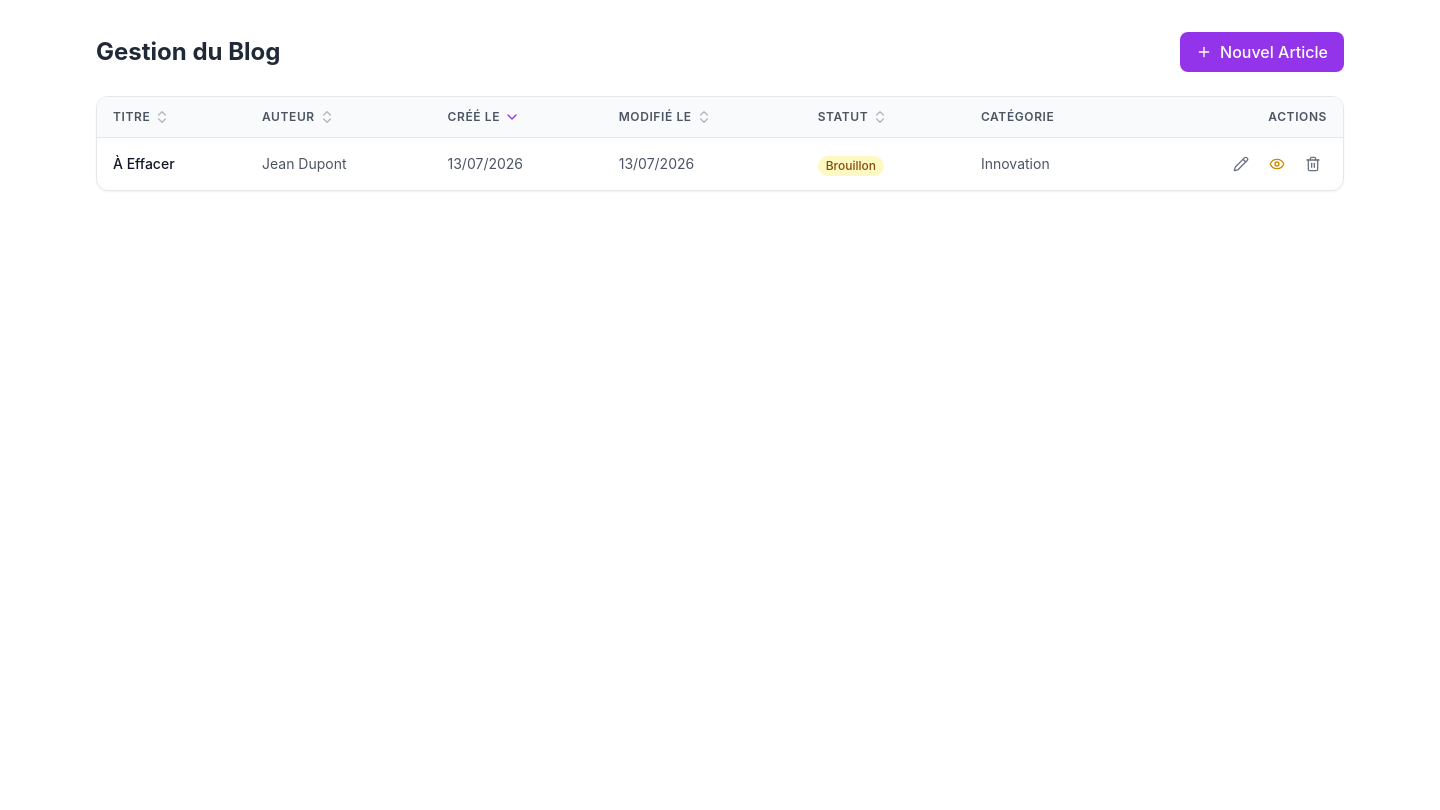
Test: AdminDashboard › Requirement 7.7 — Confirmation de suppression › supprime l'article après confirmation
Click the button named "supprimer l'article \"à effacer\"". click: (1313, 164)
box: [1299, 150, 1327, 178]
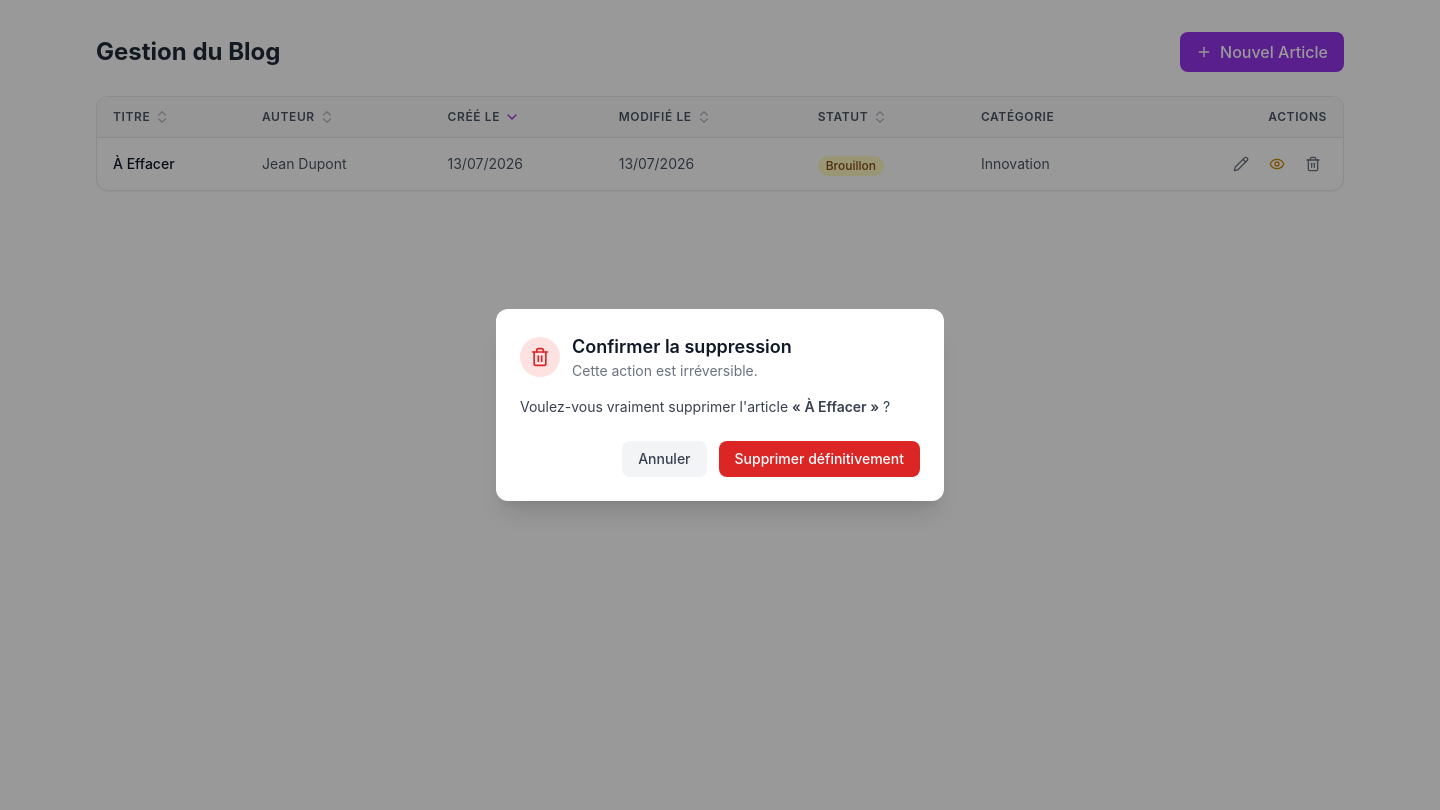
Click the button "Supprimer définitivement". click: (819, 459)
box: [718, 441, 920, 477]
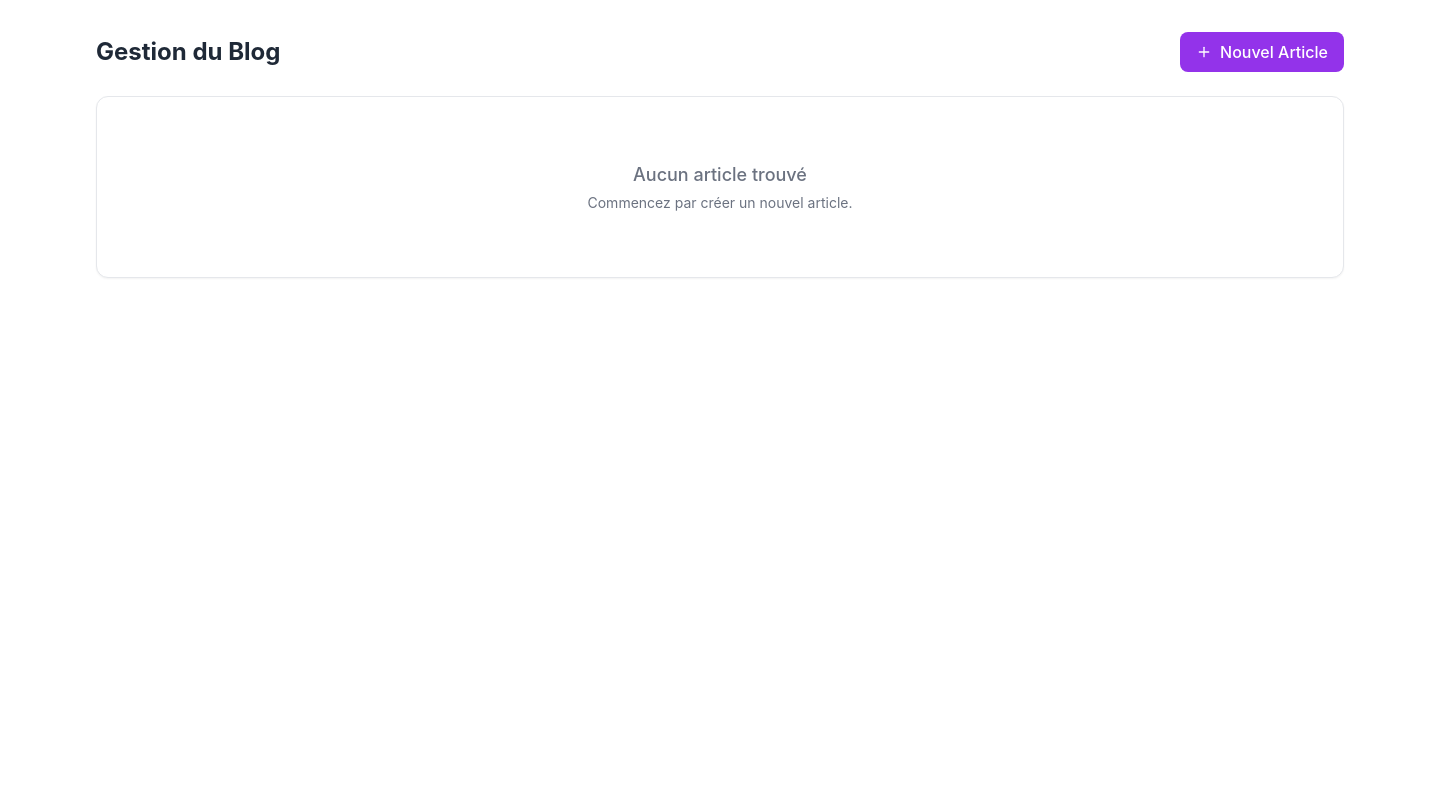
Now the dialog is gone
Now the text "Aucun article trouvé" is shown, box [633, 164, 807, 185]
